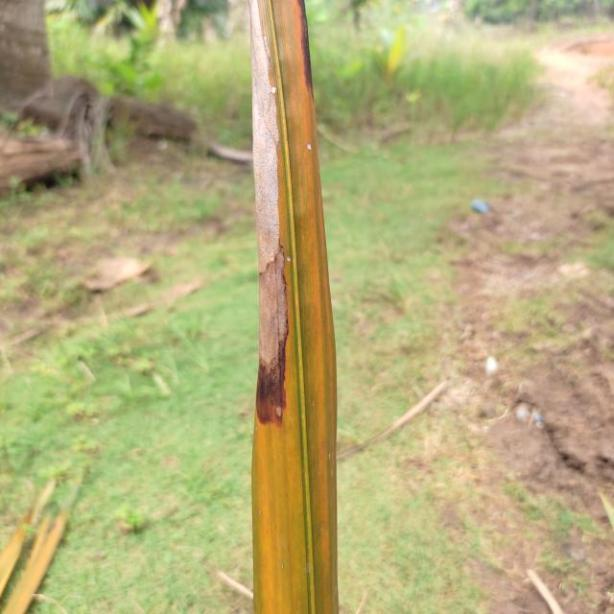Megnesium: (245, 3, 340, 614)
